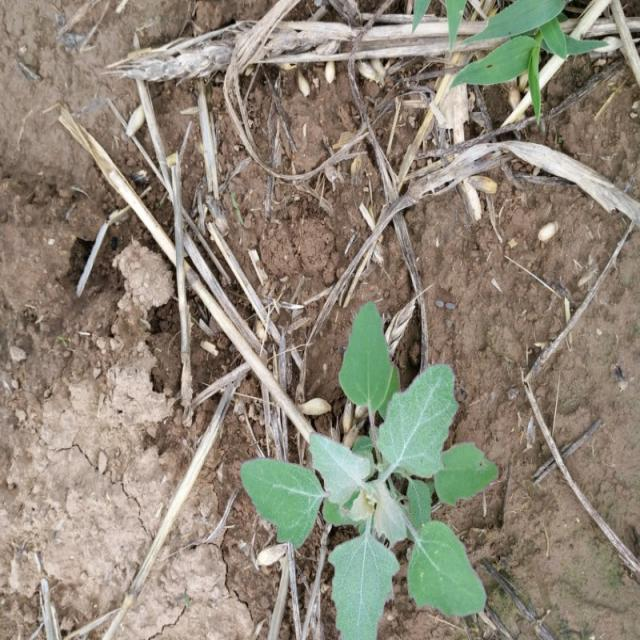goosefoots: (232, 312, 510, 618)
